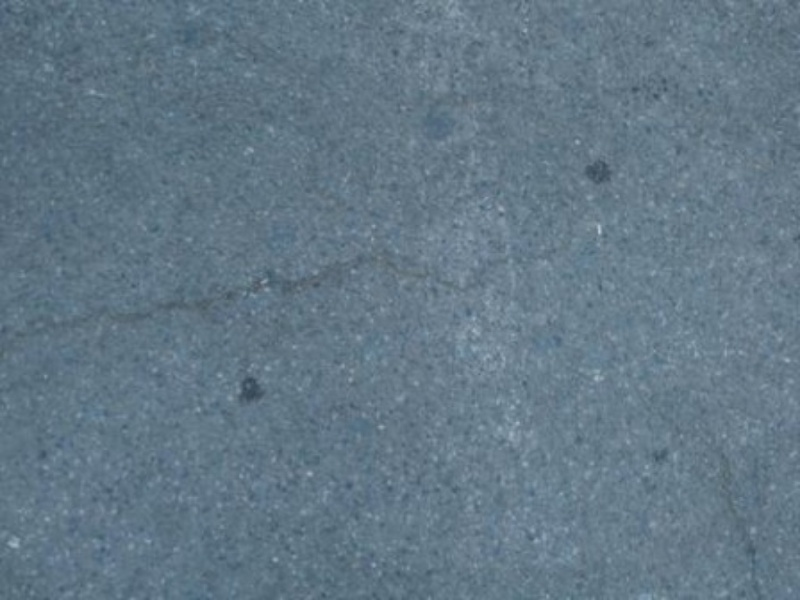crack: (15, 234, 524, 383), (701, 460, 783, 598)
